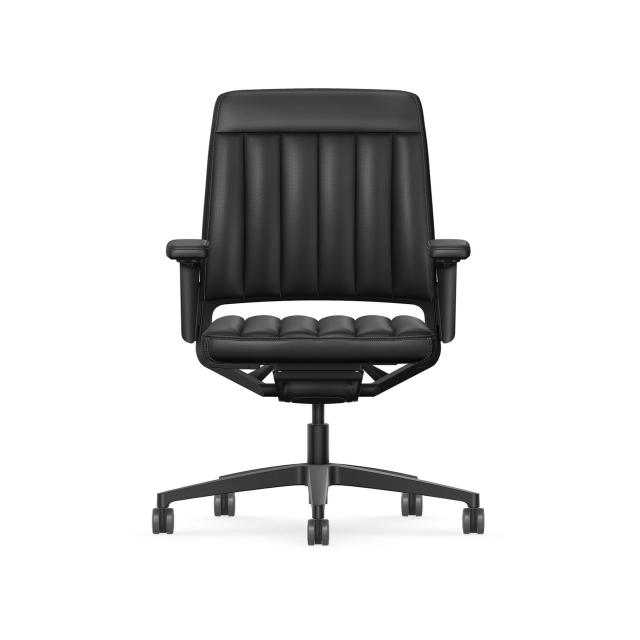chair: (151, 87, 485, 546)
